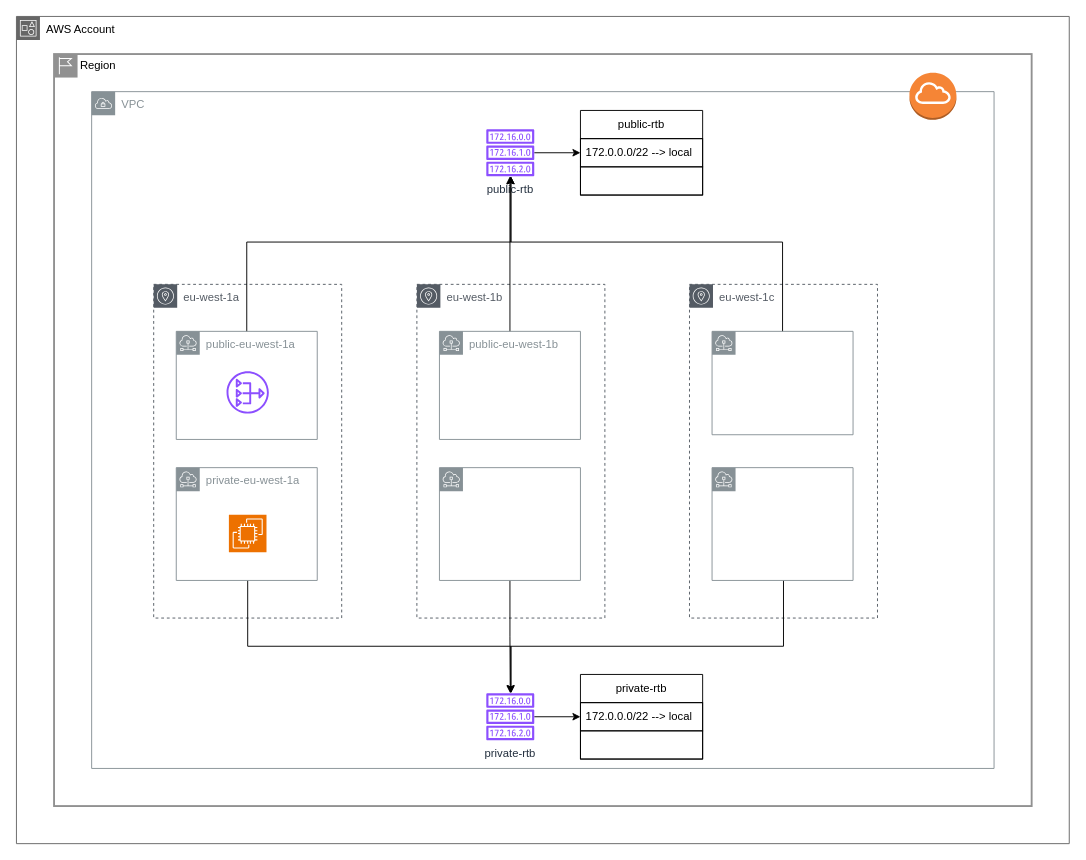
Image size: 1086x860. Some labels were removed from this diagram. Each missing label, with the centre of its shape:
"0.0.0.0/0 --> igw" belongs at point 641,180.
"0.0.0.0/0 --> NAT" belongs at point 641,744.
"igw" belongs at point 932,96.
"NAT" belongs at point 247,392.
"private-eu-west-1b" belongs at point 509,523.
"private-eu-west-1c" belongs at point 782,523.
"public-eu-west-1c" belongs at point 782,382.
"Workload" belongs at point 247,533.
